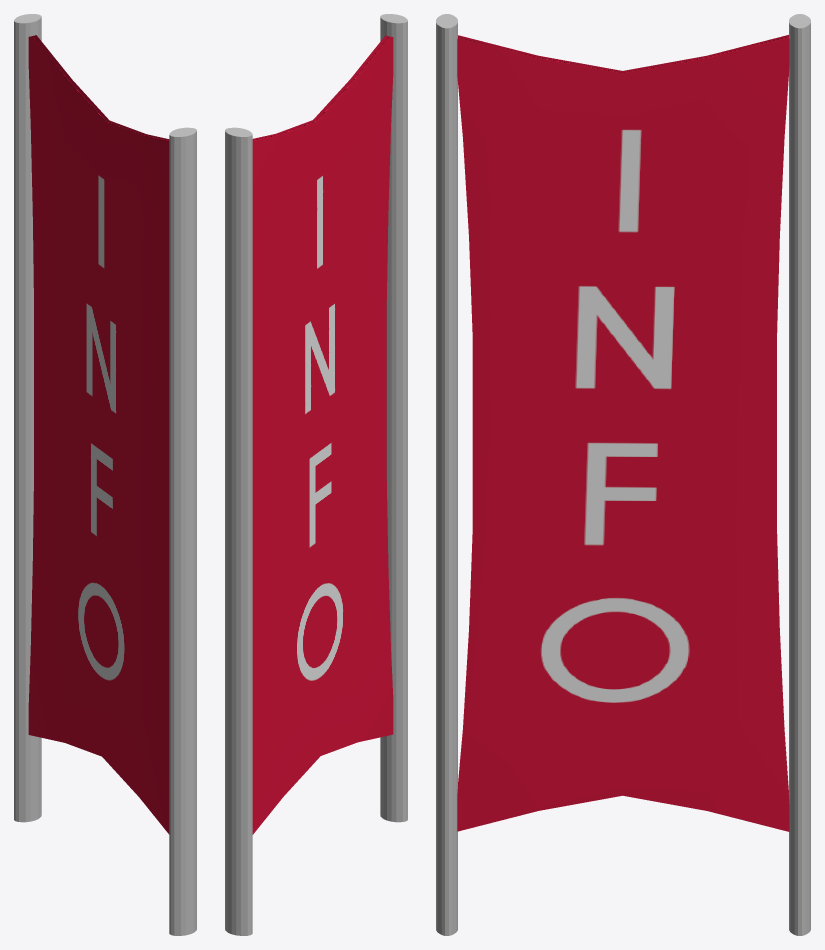
The model's file is info sign.fbx.
3 renders of one model, left to right at view 1: azimuth 30°, elevation 25°; view 2: azimuth 150°, elevation 25°; view 3: azimuth 270°, elevation 25°, orthographic. The views are drawn at different scales.
Visible parts, largest first — view 1: Cube.002, Cube, Cube.001; view 2: Cube.002, Cube.001, Cube; view 3: Cube.002, Cube, Cube.001.
Boxes of the visible parts, box(x1,y1,x2,y2) form: Cube.002: box(28, 35, 169, 834); Cube: box(169, 127, 196, 935); Cube.001: box(14, 14, 41, 822); Cube.002: box(252, 35, 393, 834); Cube.001: box(225, 127, 252, 935); Cube: box(380, 14, 407, 822); Cube.002: box(457, 35, 789, 831); Cube: box(436, 14, 457, 935); Cube.001: box(789, 14, 810, 935).
Size of the model in its own units: 48.33 by 1431 by 536.
